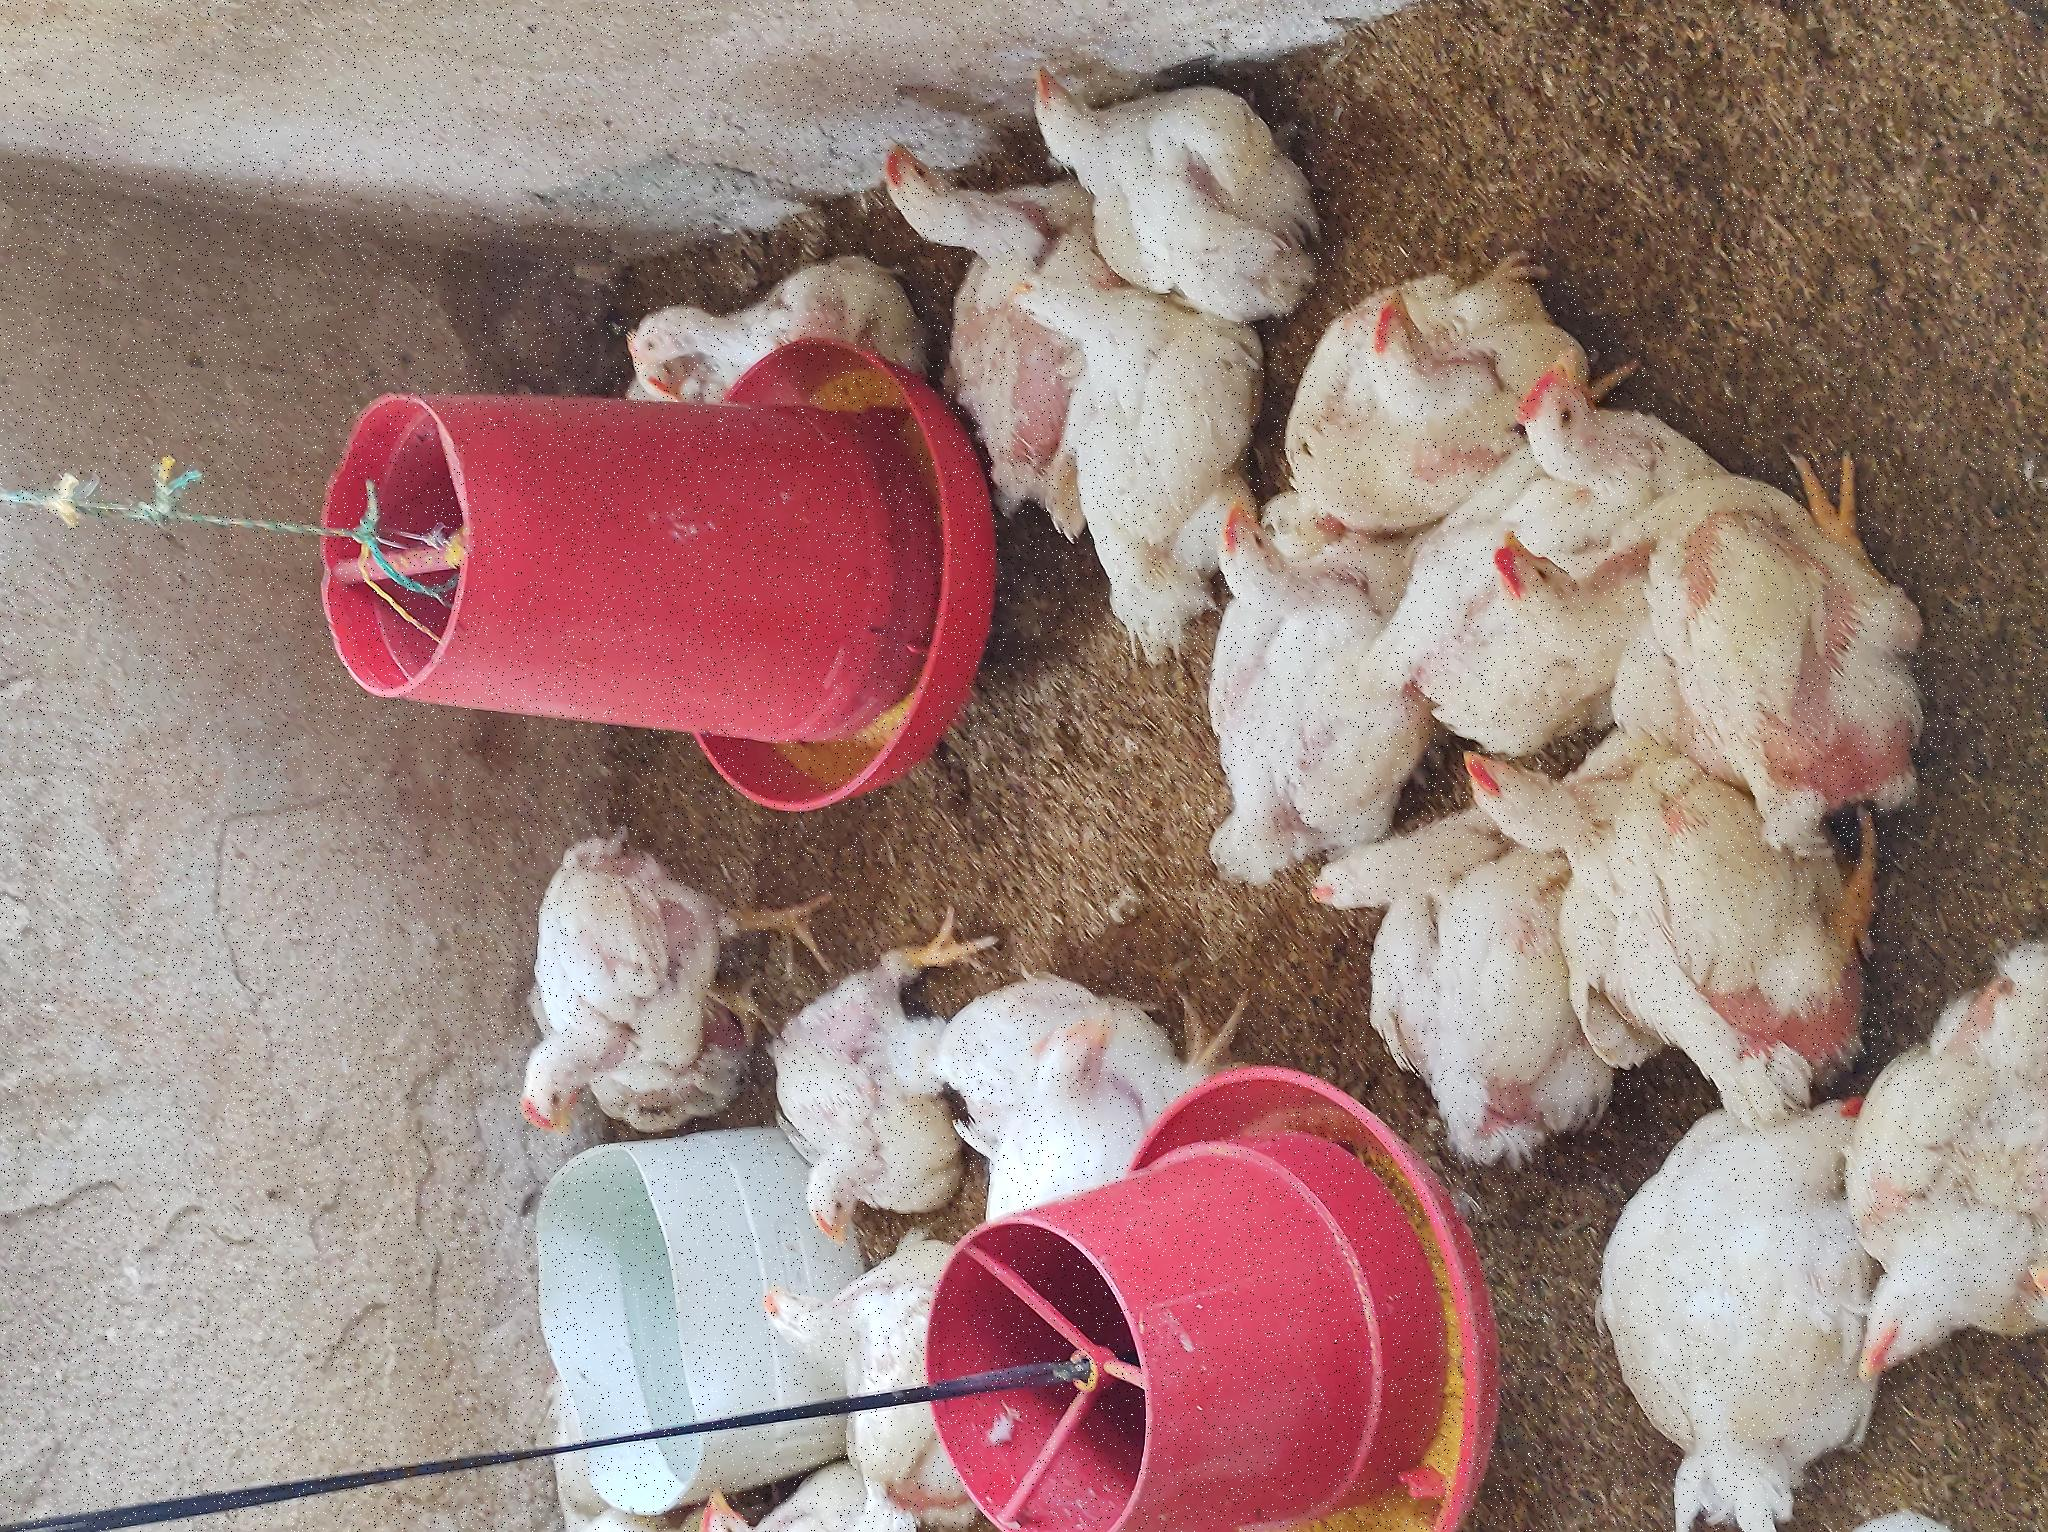Pollos: (396, 483, 722, 784), (383, 1310, 687, 1524), (660, 1191, 1036, 1357), (291, 982, 513, 1254), (1285, 1025, 1499, 1297), (968, 1007, 1261, 1200), (283, 772, 592, 925), (93, 724, 273, 957), (1245, 871, 1419, 1007), (1105, 1369, 1279, 1498), (2, 684, 61, 920), (647, 1448, 792, 1532), (1168, 628, 1258, 750), (829, 1482, 999, 1532), (1123, 599, 1202, 702)
